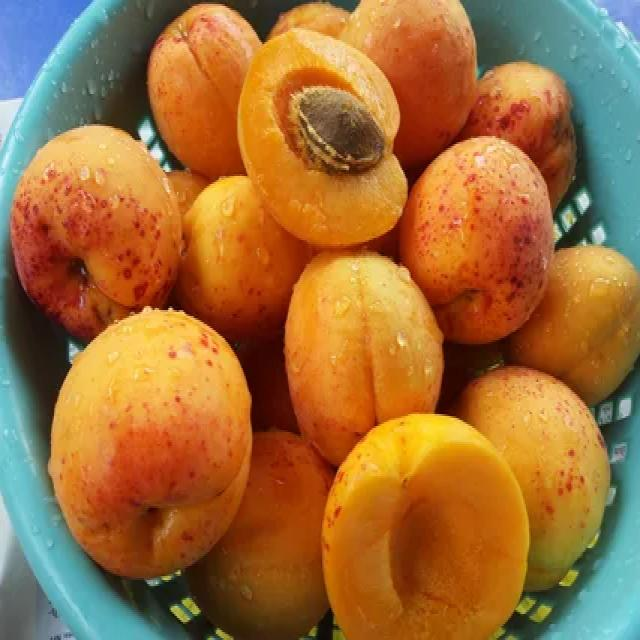Cekirdek: (292, 86, 384, 172)
Kayisi: (285, 252, 442, 462)
